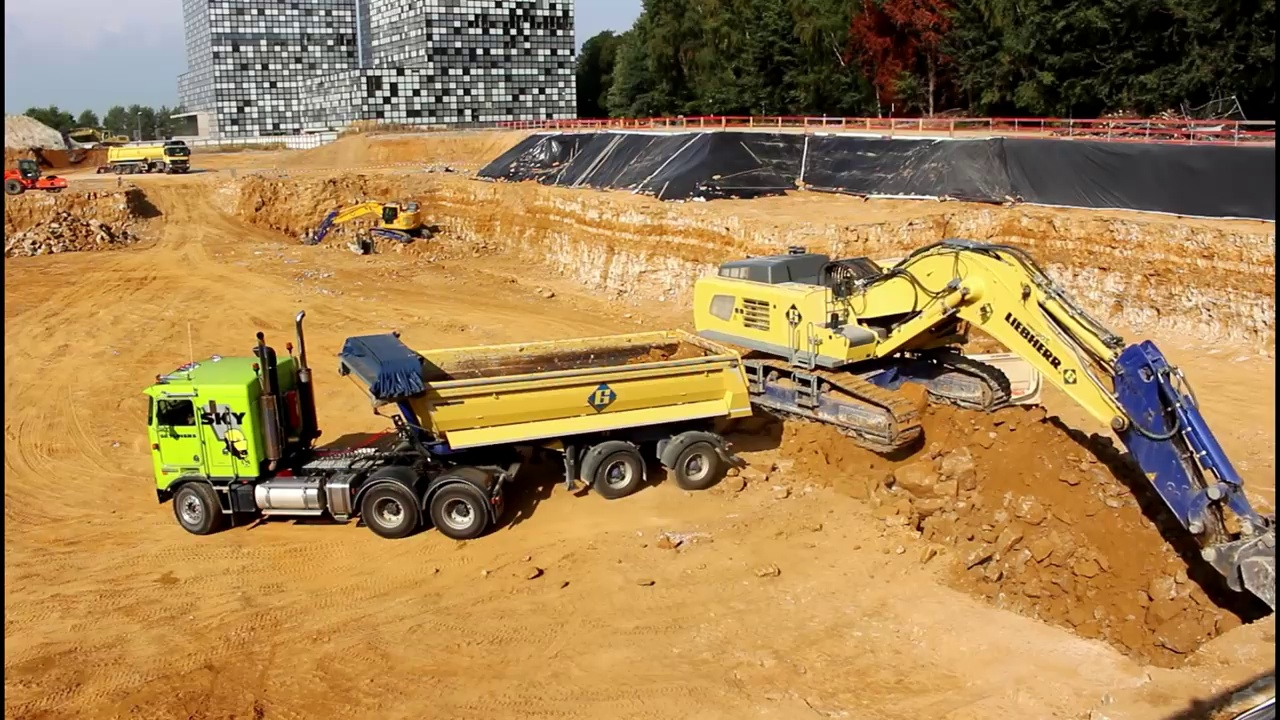compactor: (2, 158, 70, 198)
excavator: (687, 230, 1280, 629), (302, 195, 437, 265), (68, 124, 135, 154)
truck: (135, 309, 767, 540), (885, 250, 1050, 412), (105, 141, 194, 178)
